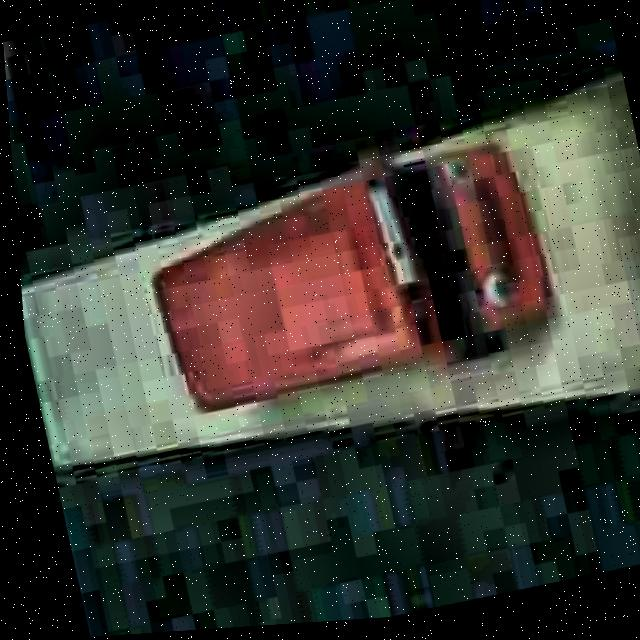bus: (127, 121, 574, 432)
